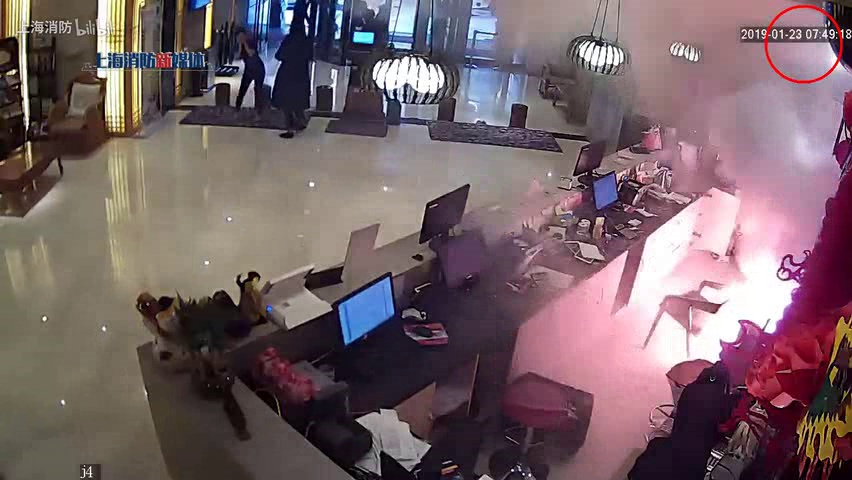fire: (710, 229, 807, 348)
